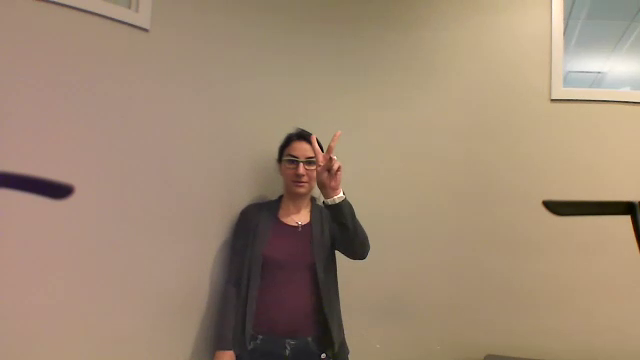peace: (299, 125, 352, 193)
